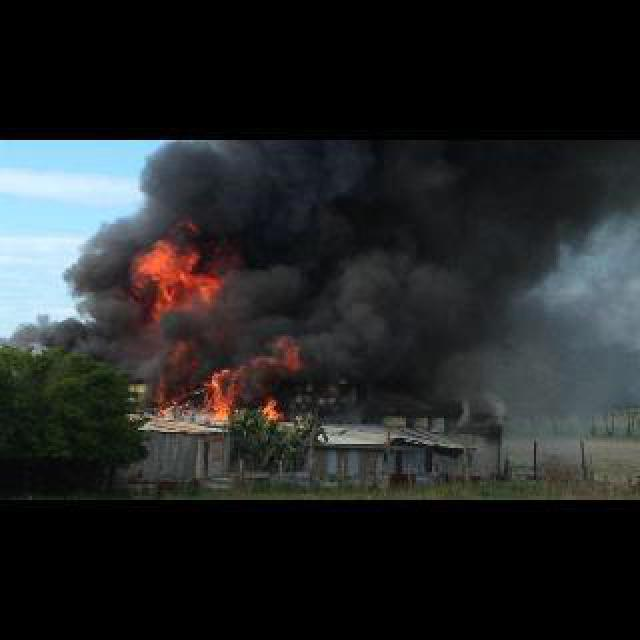Fire: (120, 216, 228, 326), (202, 346, 298, 416), (152, 372, 182, 414), (262, 392, 280, 416)
Smoke: (68, 138, 638, 394)
